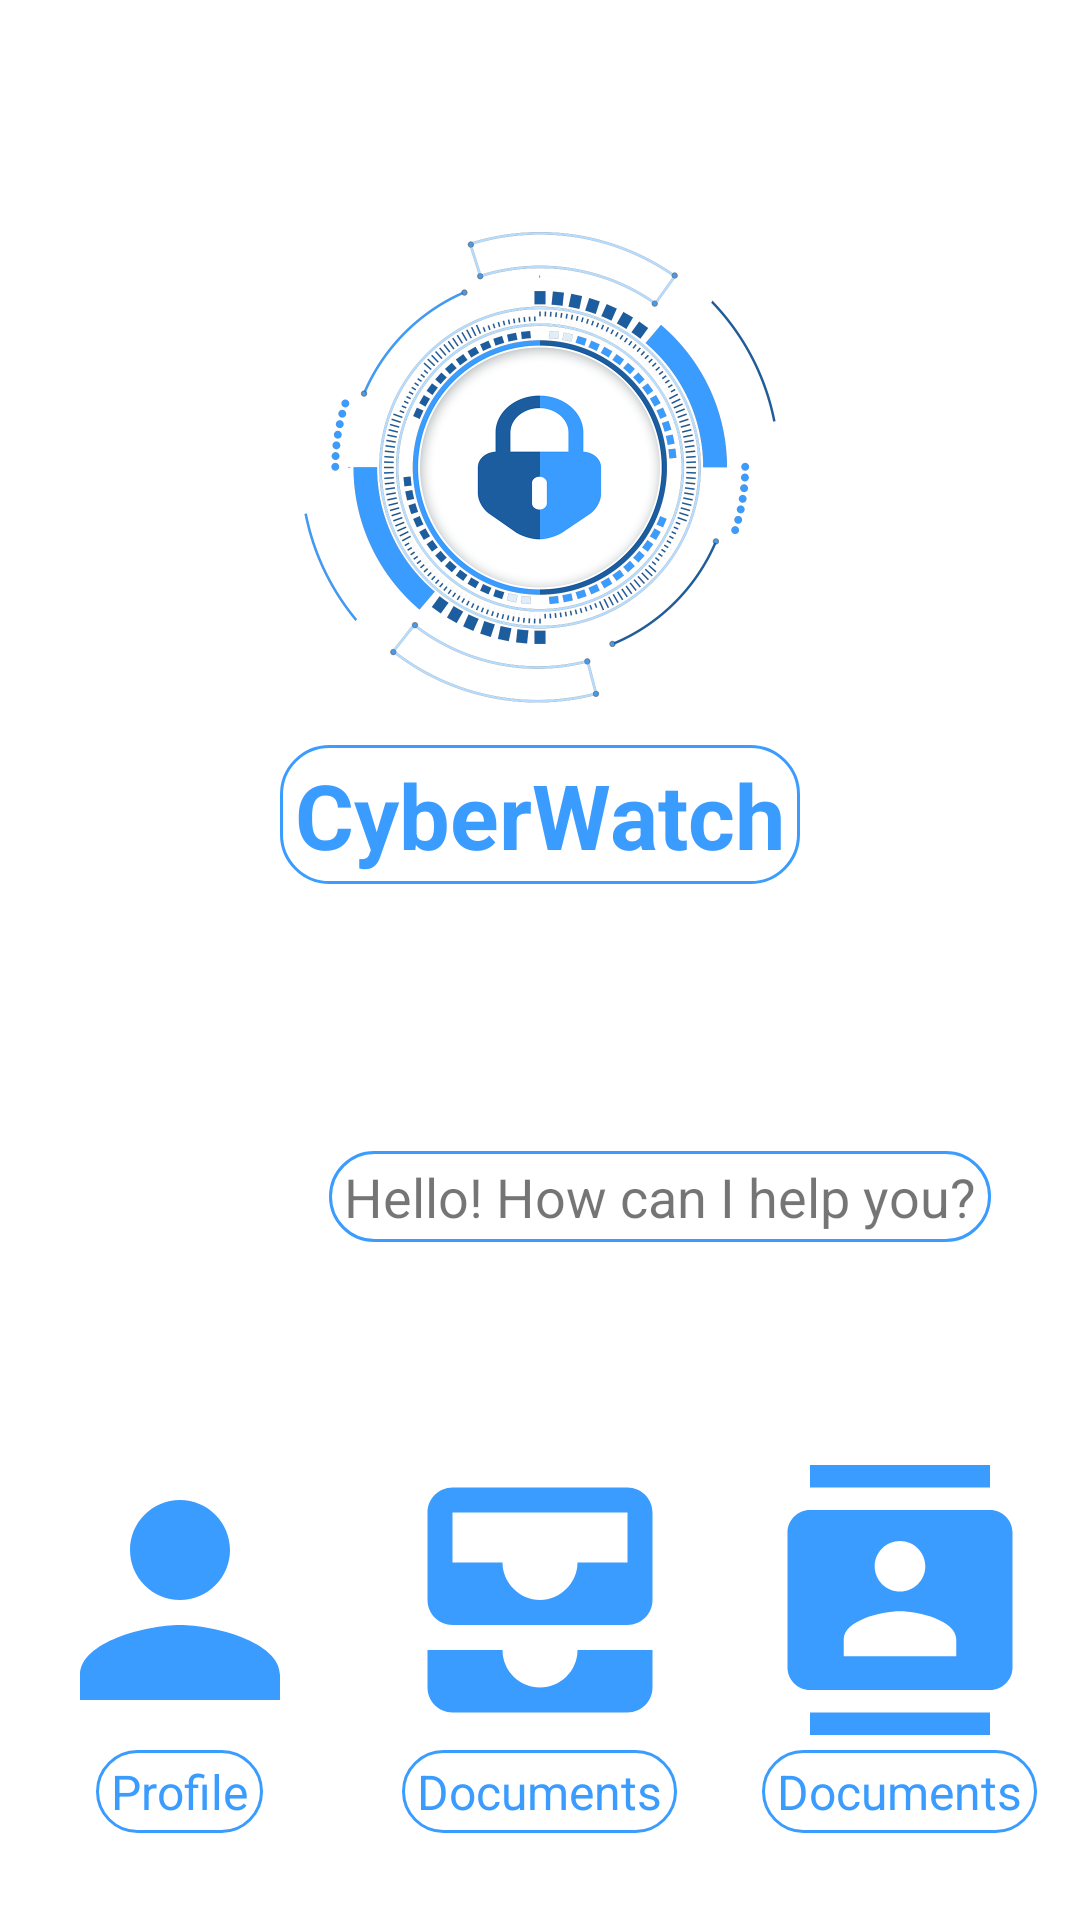

Locate icon controls on the screen. Image size 1080px x 1920px, boxes as (x1, y1, x2, y2).
all box: (427, 1487, 653, 1713)
contacts: (787, 1465, 1013, 1735)
person: (80, 1500, 280, 1700)
